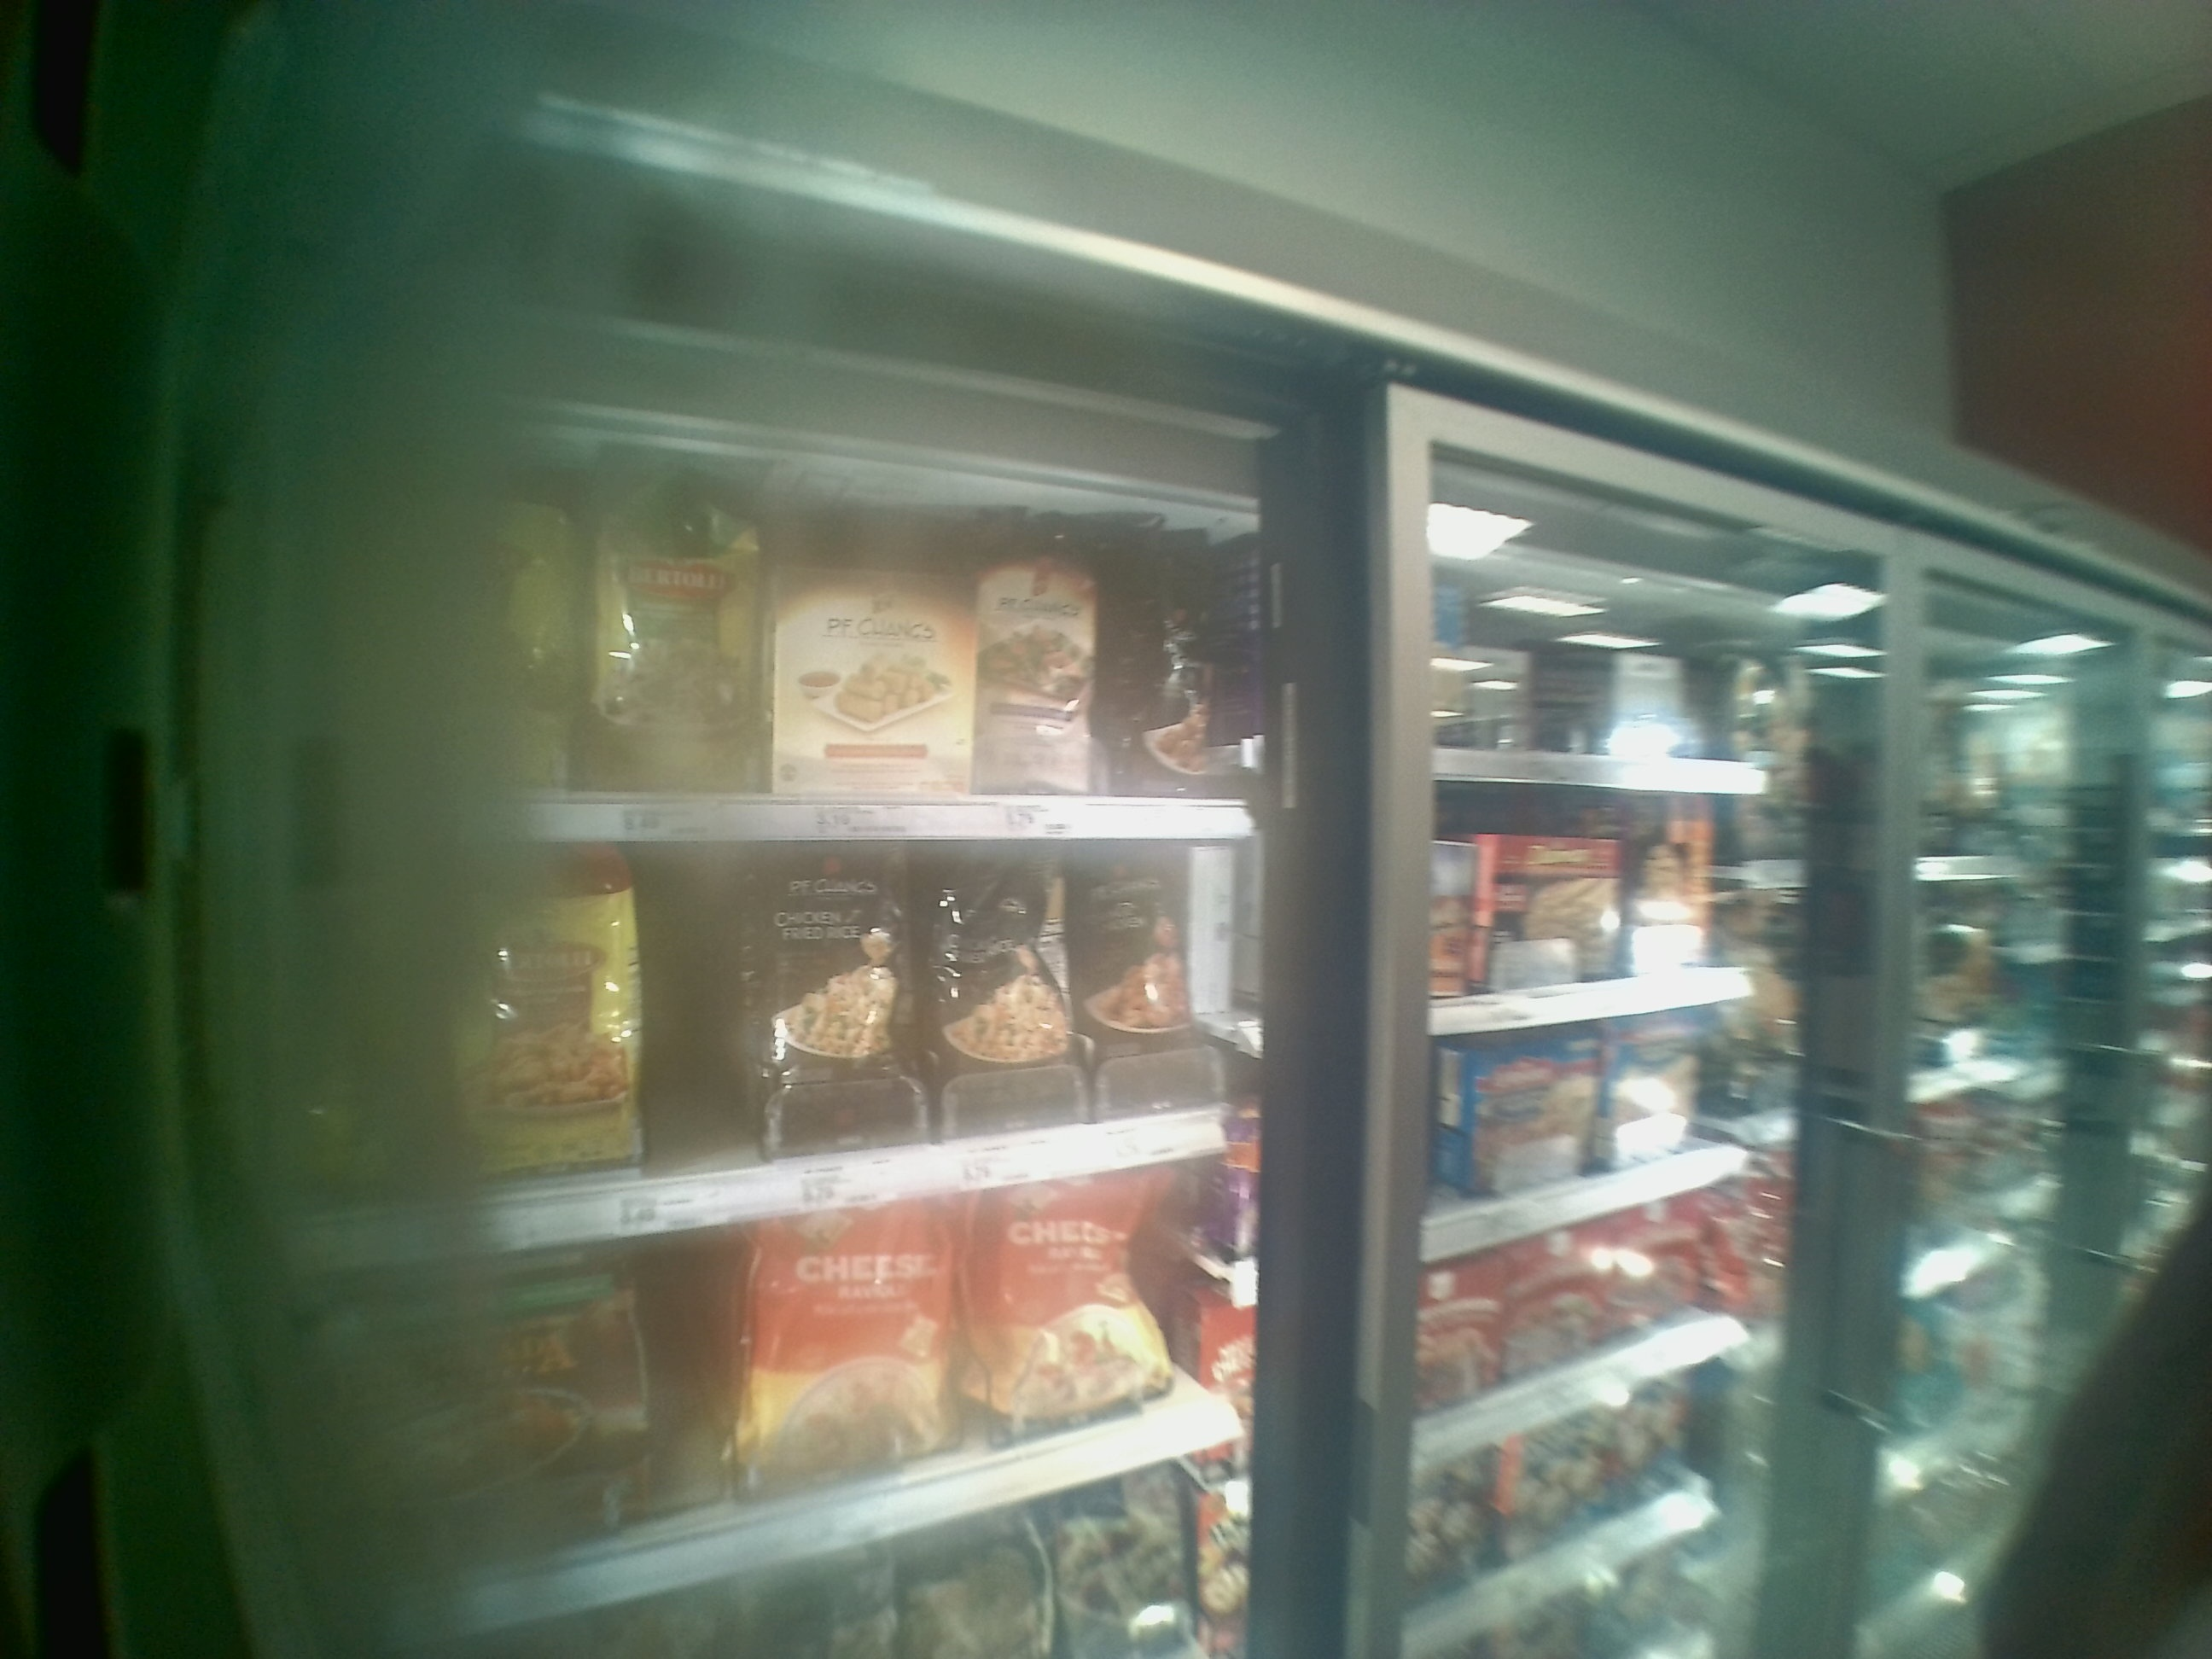shelf: (301, 842, 1275, 1260)
